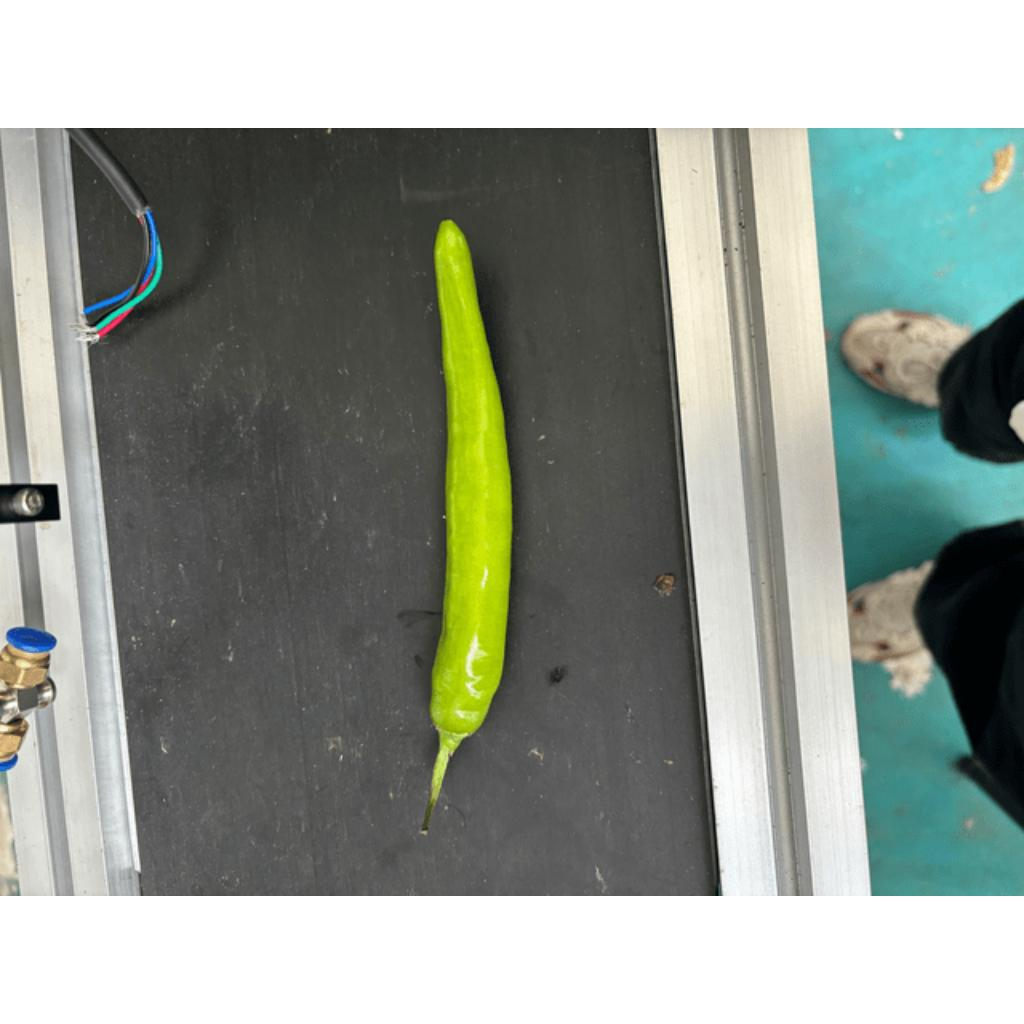chili: (427, 215, 516, 747)
